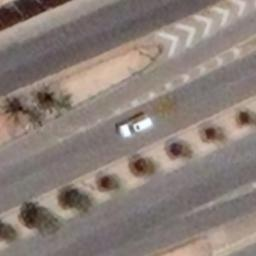SUV: (112, 112, 158, 142)
